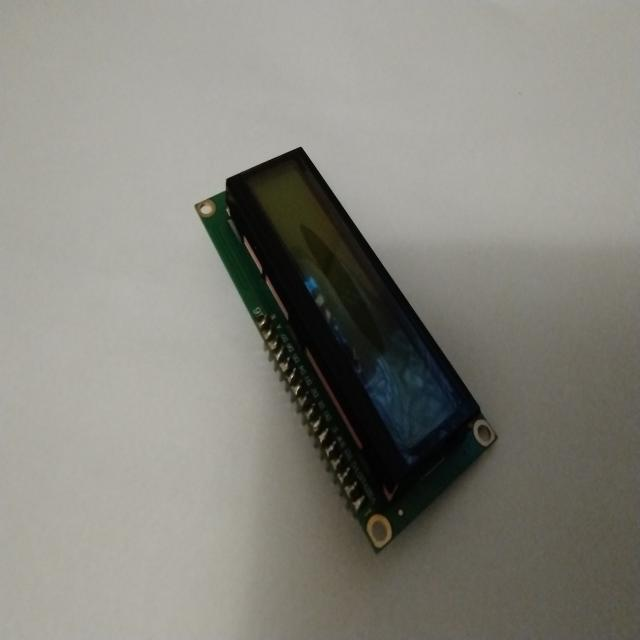lcd: (177, 131, 507, 566)
